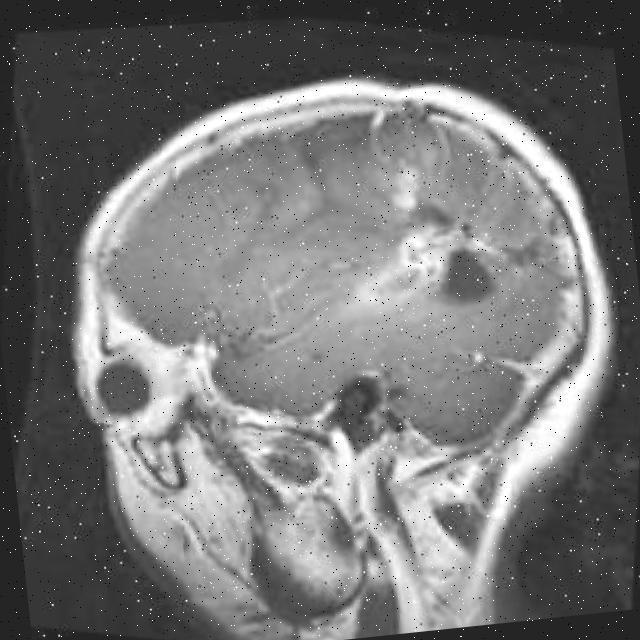EMCI: (275, 172, 566, 362)
